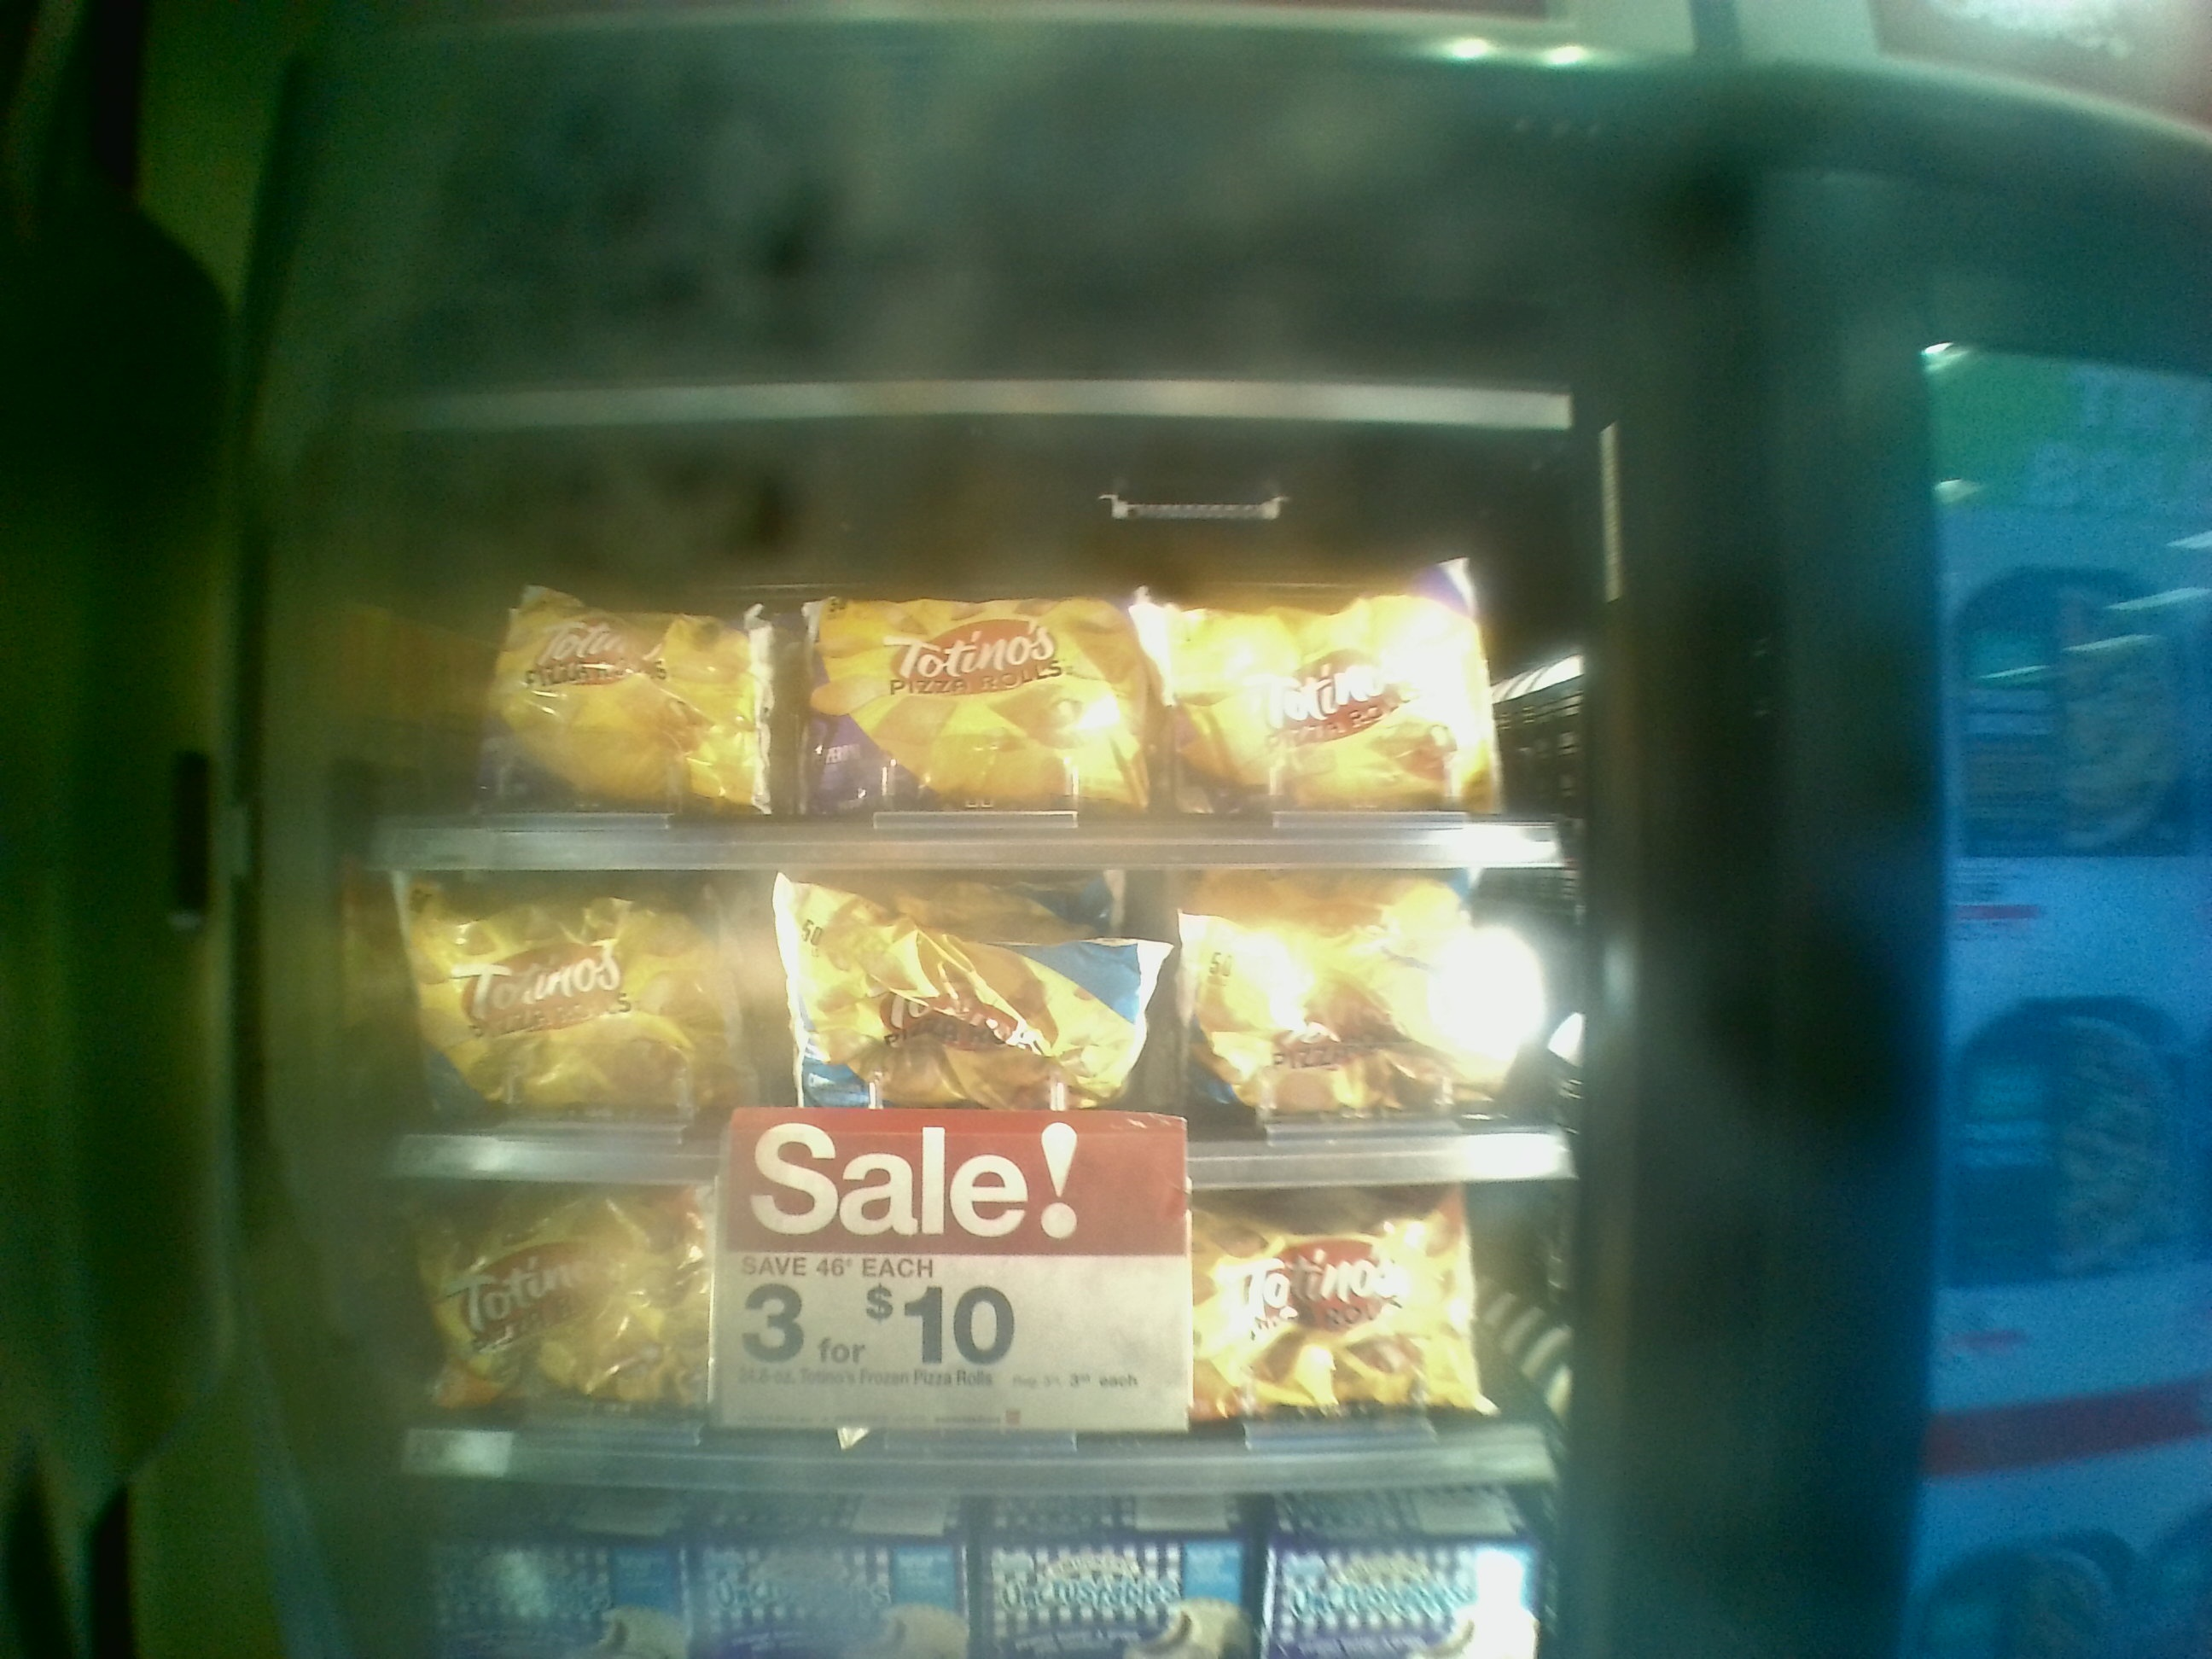shelf: (366, 467, 1578, 873), (364, 850, 1576, 1183), (355, 1182, 1548, 1499)
